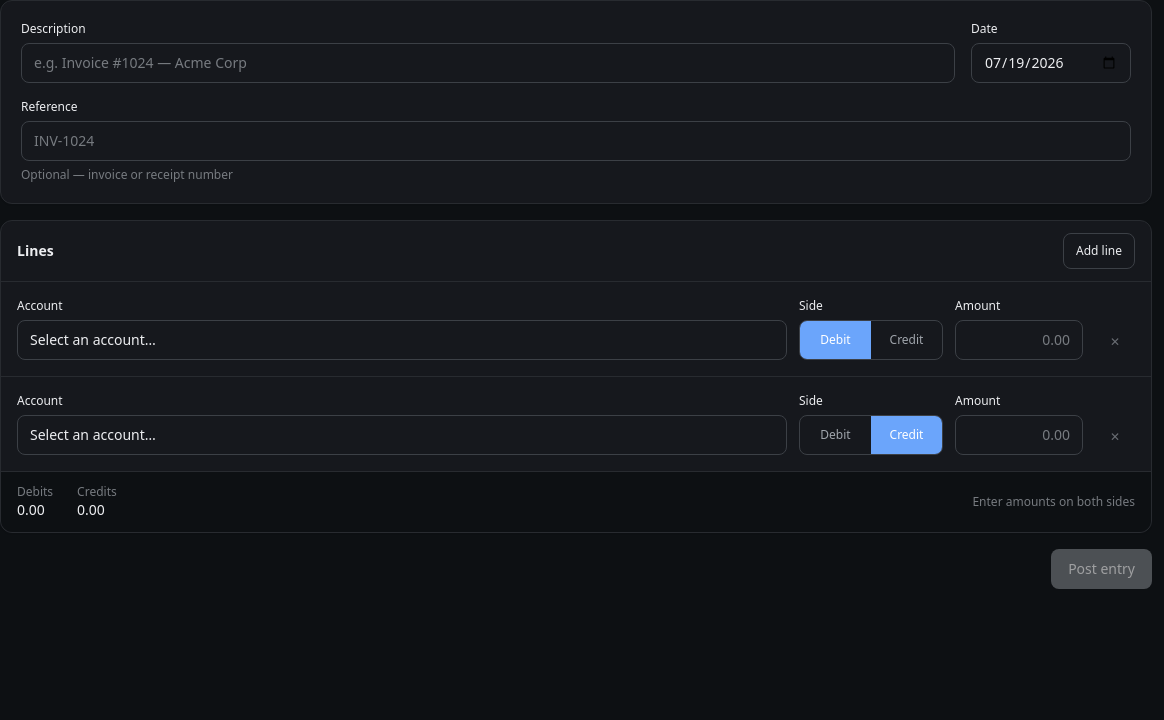
Test: EntryForm — balance readout › enables posting once debits equal credits
Select "1000 · Cash" in the 1st dropdown labelled "Account" at [402, 340], box [17,320,787,360]
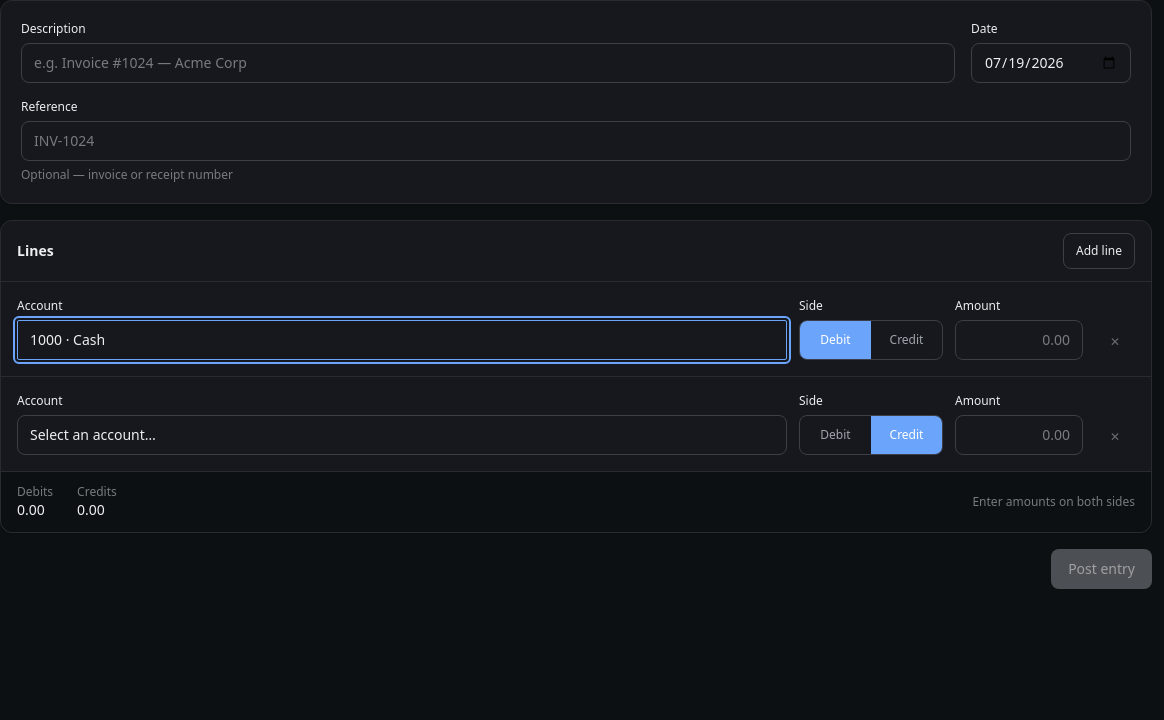
Click the 1st button "debit".
click(836, 340)  # box [800,321,871,359]
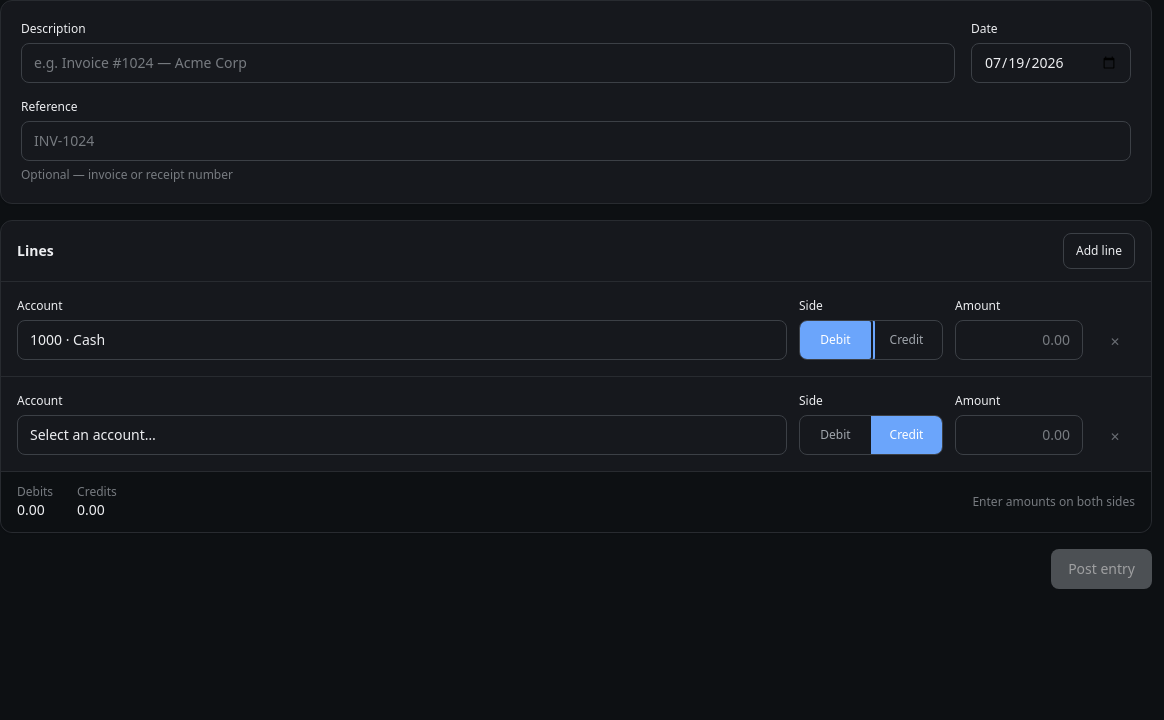
Type "100.00" into the 1st field labelled "Amount".
click(1019, 340); type("100.00")  # box [955,320,1083,360]
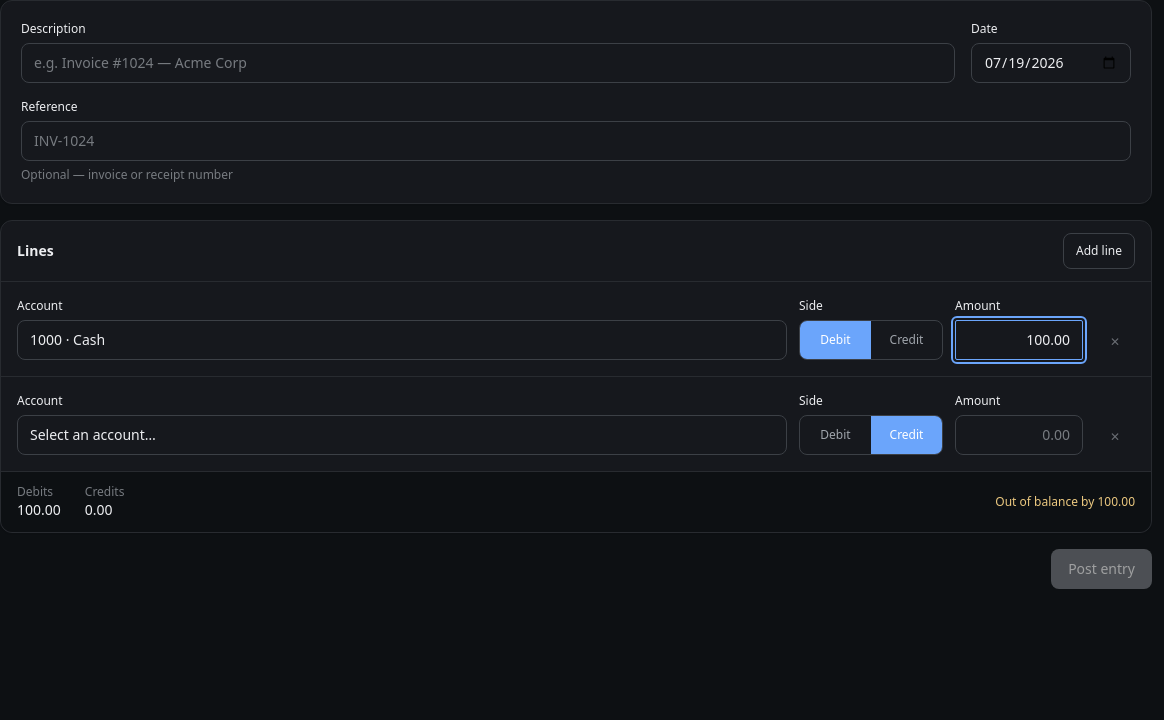
Select "4000 · Sales Revenue" in the 2nd dropdown labelled "Account" at [402, 435], box [17,415,787,455]
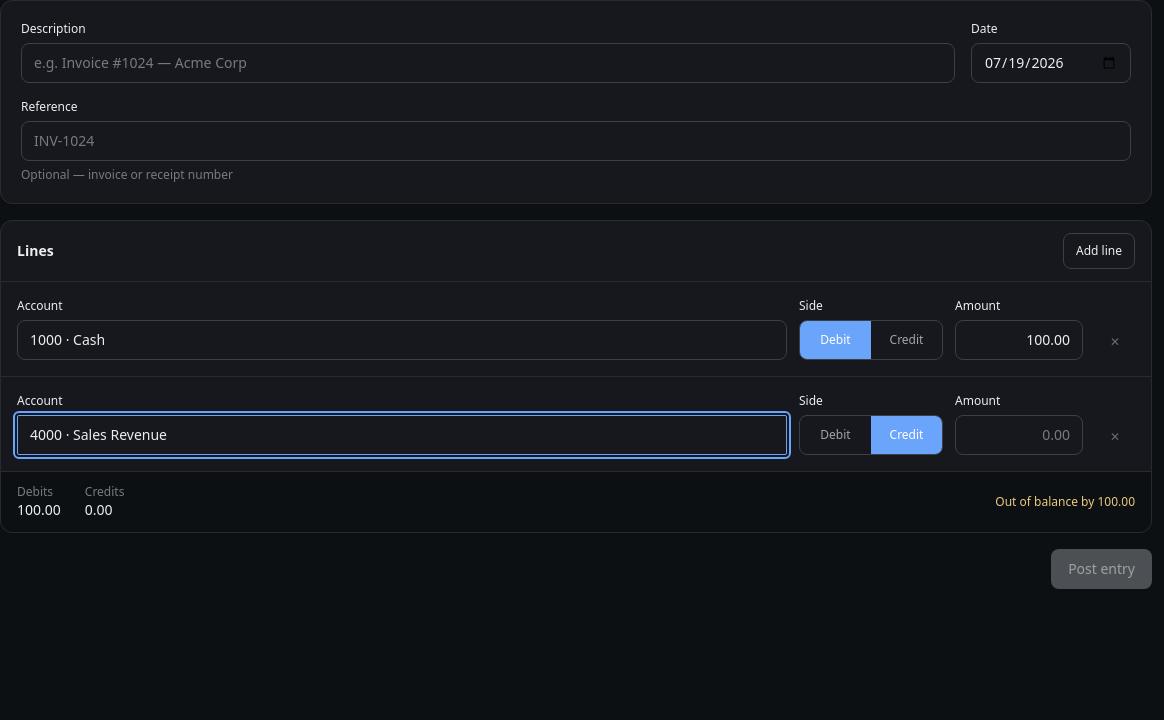
Click the 2nd button "credit".
click(906, 435)  # box [871,416,942,454]
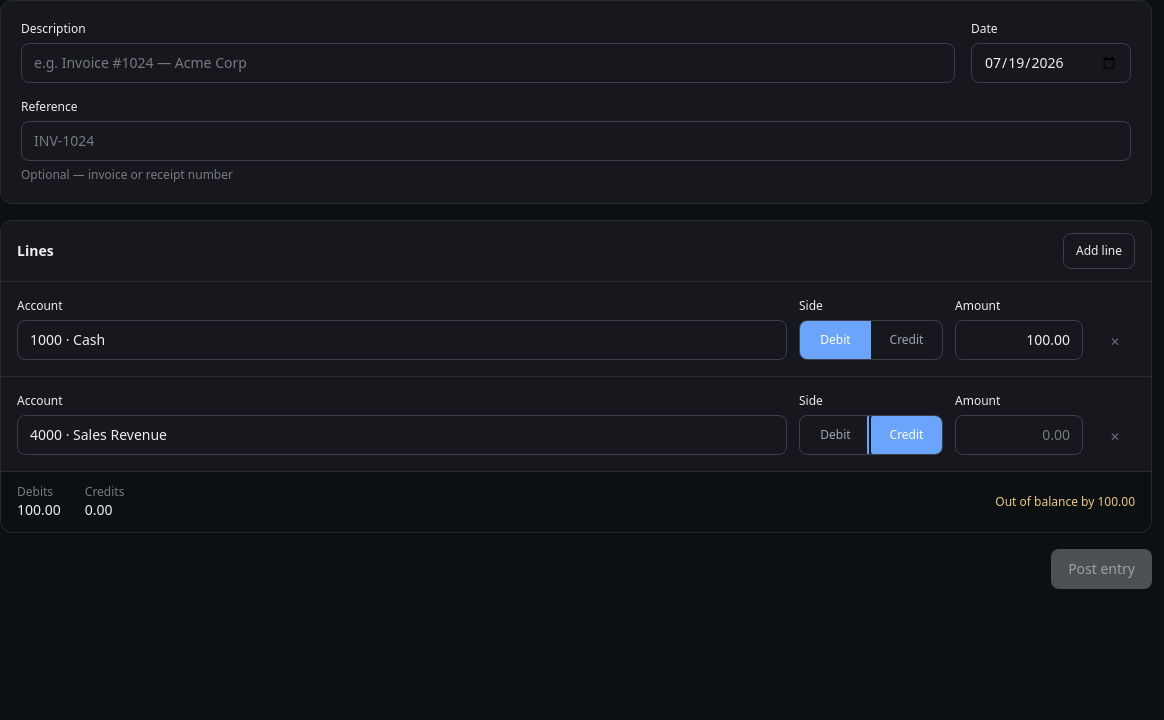
Type "100.00" into the 2nd field labelled "Amount".
click(1019, 435); type("100.00")  # box [955,415,1083,455]
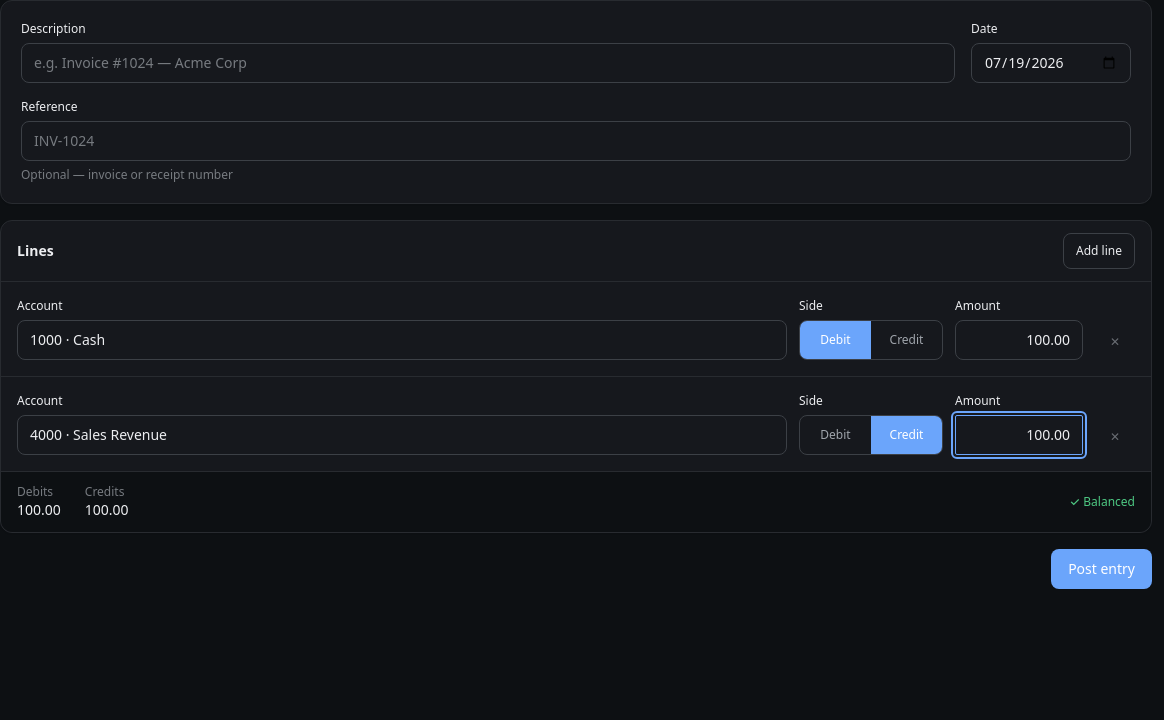
Now the text "✓ Balanced" is shown, box [1070,494,1135,510]
Now the button "Post entry" is enabled, box [1051,549,1152,589]
